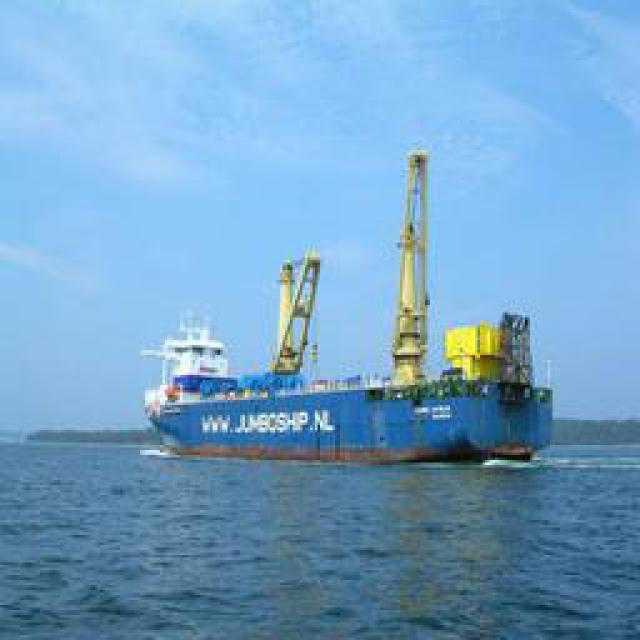Ship: (136, 152, 561, 460)
